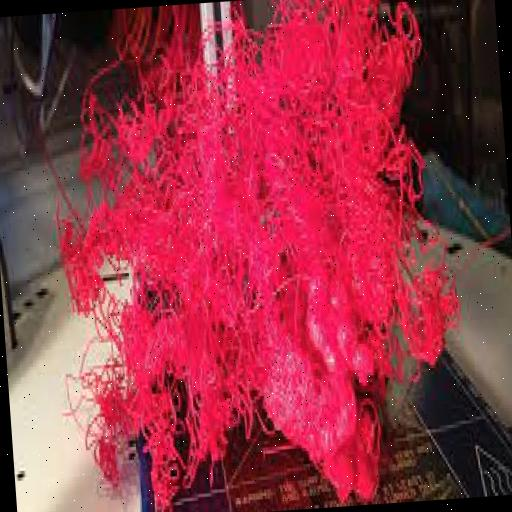spaghetti: (73, 20, 454, 494)
